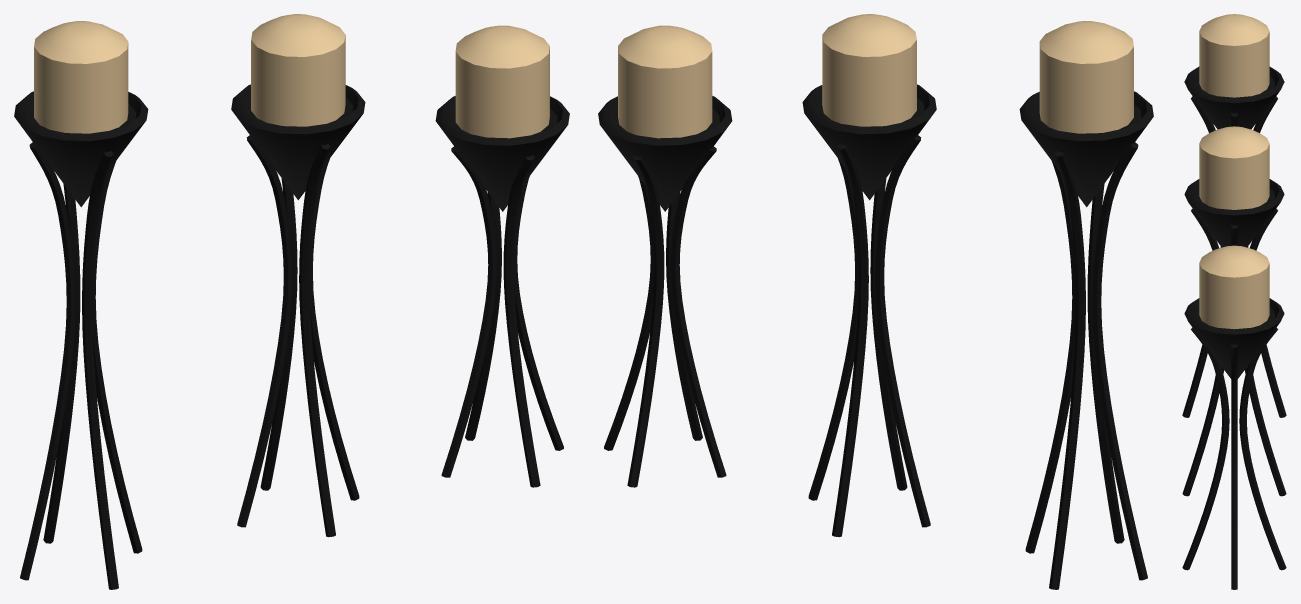
File: Candle_Three.FBX
3 renders of one model, left to right at view 1: azimuth 30°, elevation 25°; view 2: azimuth 150°, elevation 25°; view 3: azimuth 270°, elevation 25°, orthographic. The views are drawn at different scales.
Parts seen in each view (by area): view 1: Candel_Three; view 2: Candel_Three; view 3: Candel_Three.
Part boxes in pixels (bbox=[...]): Candel_Three: bbox=[14, 14, 569, 589]; Candel_Three: bbox=[598, 14, 1153, 589]; Candel_Three: bbox=[1182, 14, 1286, 589].
Size of the model in its own units: 9.42 by 8.89 by 2.12.
